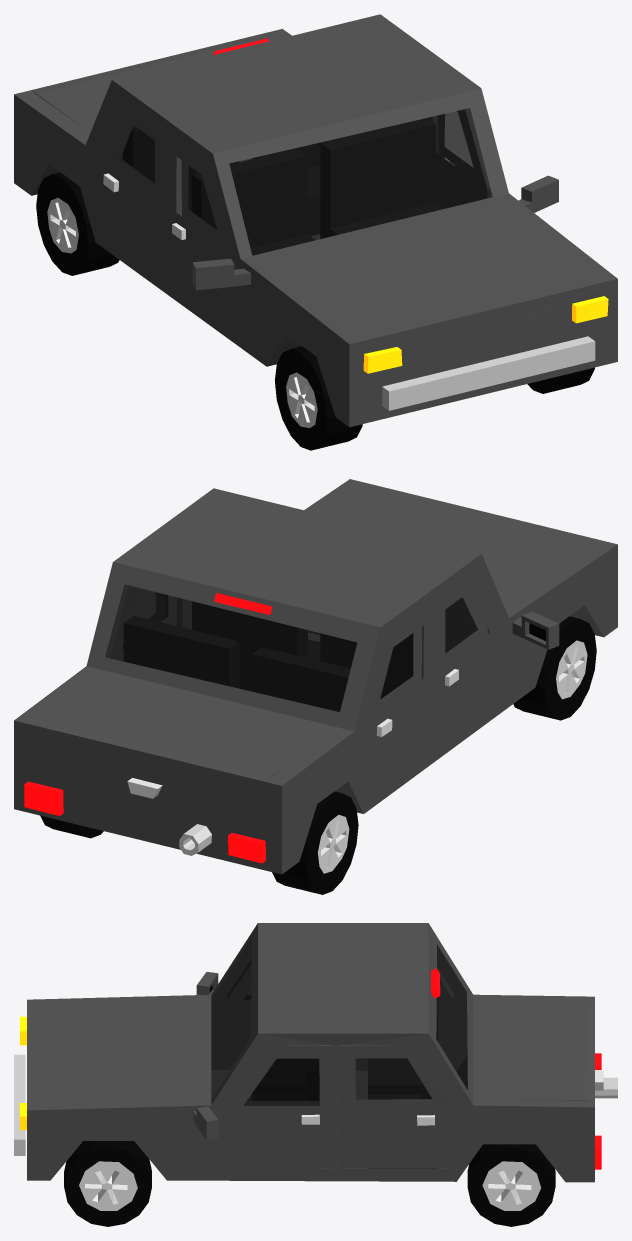
File: car.glb
3 views of the same model, one above another, from view 1: azimuth 30°, elevation 25°; view 2: azimuth 150°, elevation 25°; view 3: azimuth 270°, elevation 25° (orthographic). The views are drawn at different scales.
Parts seen in each view (by area): view 1: Cube001, Cube001_2, FrontHatch, Cube001_1, Cube010, Cube002, FrontBumber, Cube005, Cylinder002_1, Cylinder003_1, Cube003, Cube001_3 (+8 smaller); view 2: Cube001, Cube005, Cube001_2, Cube001_1, FrontHatch, Cube010, Cube002, Cylinder003_1, Cylinder002_1, Cube001_4, Cube012, Cylinder002 (+7 smaller); view 3: Cube001, FrontHatch, Cube005, Cube012, Cube003, Cube001_2, Cube001_1, Cylinder001_1, Cylinder004_1, Cube003_1, Cube012_1, Cylinder001 (+7 smaller).
Boxes of the visible parts, x1,y1,x2,y2 form: Cube001: [14, 14, 617, 427]; Cube001_2: [229, 108, 492, 255]; FrontHatch: [267, 206, 592, 334]; Cube001_1: [123, 118, 443, 255]; Cube010: [96, 99, 163, 276]; Cube002: [169, 136, 231, 326]; FrontBumber: [382, 336, 595, 410]; Cube005: [31, 32, 276, 132]; Cylinder002_1: [275, 346, 362, 450]; Cylinder003_1: [36, 172, 119, 275]; Cube003: [428, 108, 492, 208]; Cube001_3: [363, 296, 608, 373]; Cube001: [14, 479, 617, 874]; Cube005: [28, 677, 326, 828]; Cube001_2: [105, 584, 466, 711]; Cube001_1: [123, 601, 413, 711]; FrontHatch: [322, 489, 593, 605]; Cube010: [365, 604, 432, 793]; Cube002: [438, 573, 499, 744]; Cylinder003_1: [272, 791, 358, 894]; Cylinder002_1: [513, 616, 596, 720]; Cube001_4: [24, 593, 272, 863]; Cube012: [105, 584, 176, 661]; Cylinder002: [556, 640, 587, 699]; Cube001: [27, 923, 594, 1182]; FrontHatch: [40, 1002, 195, 1103]; Cube005: [489, 1002, 594, 1100]; Cube012: [340, 1045, 454, 1168]; Cube003: [227, 1045, 331, 1168]; Cube001_2: [211, 938, 467, 1097]; Cube001_1: [252, 997, 438, 1168]; Cylinder001_1: [64, 1141, 151, 1226]; Cylinder004_1: [467, 1144, 555, 1226]; Cube003_1: [243, 1058, 319, 1105]; Cube012_1: [355, 1058, 431, 1099]; Cylinder001: [79, 1161, 137, 1210].
Size of the model in its own units: 6.76 by 4.06 by 11.53.
